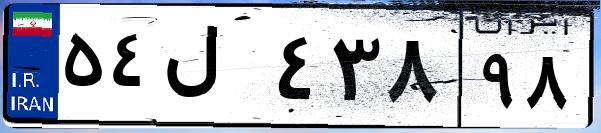3: (330, 28, 385, 110)
4: (270, 28, 330, 110), (110, 28, 158, 98)
5: (57, 26, 110, 100)
8: (385, 28, 445, 110), (525, 38, 570, 115)
9: (475, 38, 525, 113)
ل: (158, 20, 270, 120)
